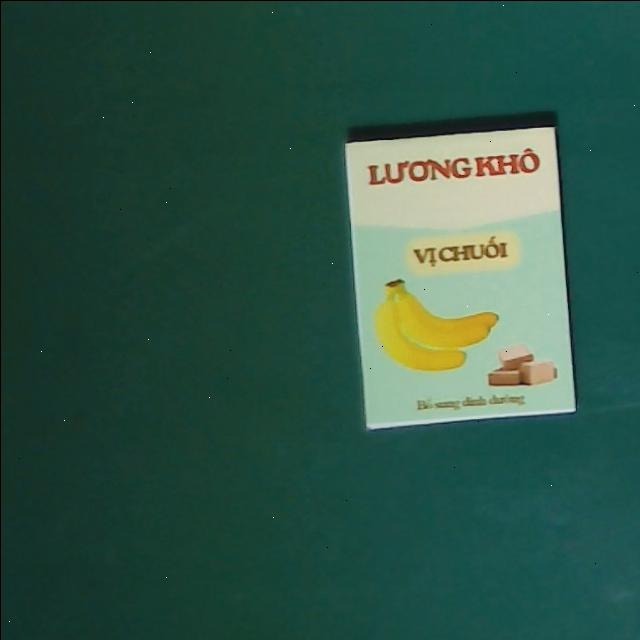chuoi: (344, 125, 575, 427)
